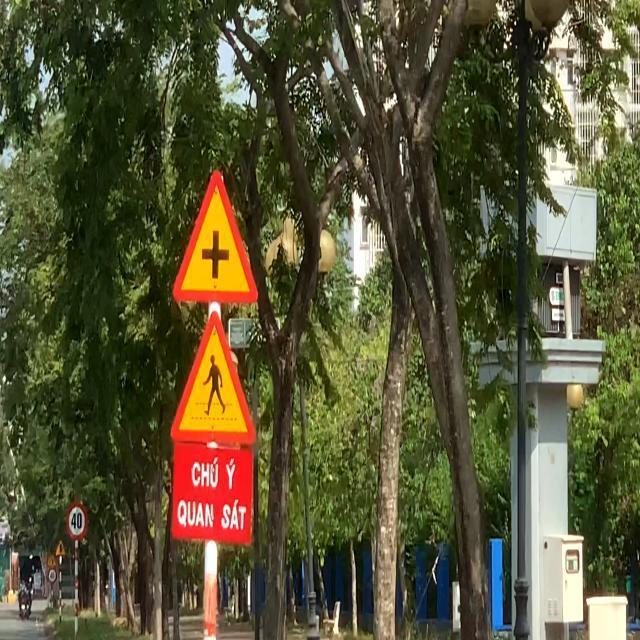127-toc-do-toi-da-40: (66, 501, 90, 540)
205-duong-giao-nhau: (172, 172, 263, 304)
224-duong-nguoi-di-bo-cat-ngang: (168, 314, 258, 444)
